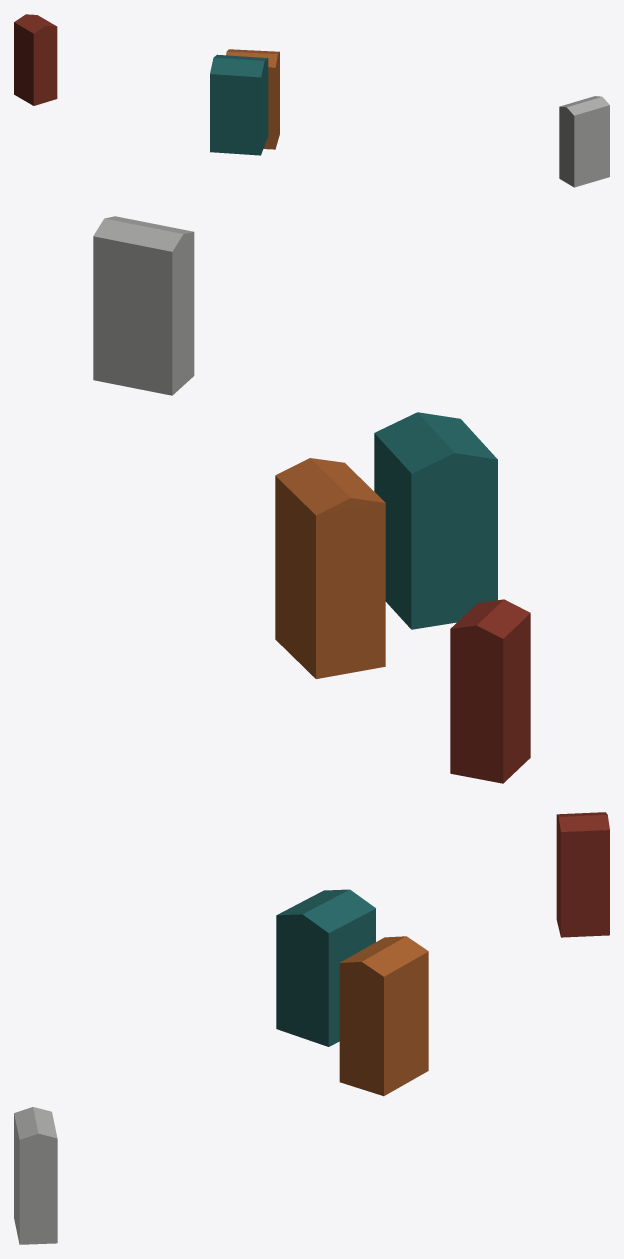
The model's file is near-15-27350-14868.9a1865df.glb.
3 views of the same model, one above another, from view 1: azimuth 30°, elevation 25°; view 2: azimuth 150°, elevation 25°; view 3: azimuth 270°, elevation 25° (orthographic). The views are drawn at different scales.
Bounding box in the file's own units: 112 × 29.42 × 101.
